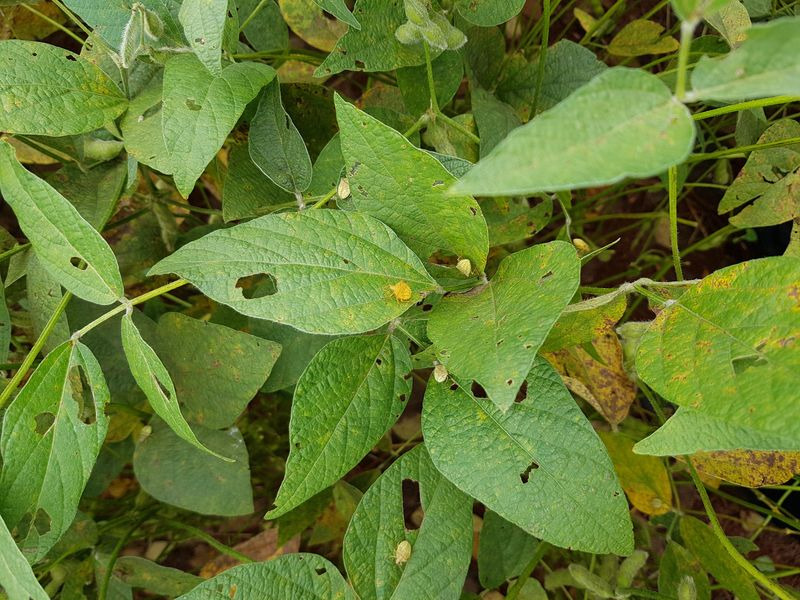Euschistus_heros_ninfa: (382, 535, 426, 573), (381, 274, 425, 308), (425, 355, 460, 389), (449, 250, 483, 284), (330, 172, 364, 203)
